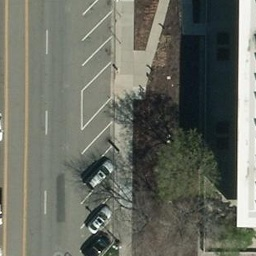car: (86, 160, 117, 189), (88, 206, 111, 234)
